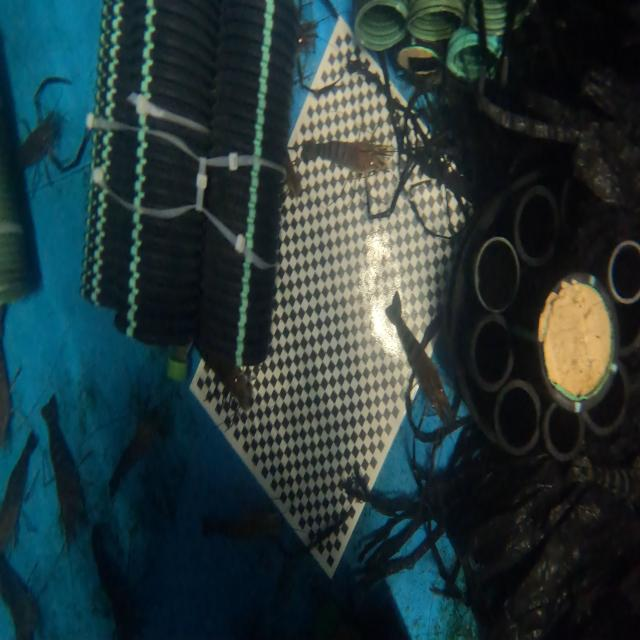prawn: (386, 294, 449, 421), (42, 396, 88, 544), (109, 409, 166, 495), (0, 434, 36, 550), (303, 141, 394, 173), (21, 114, 57, 166)
